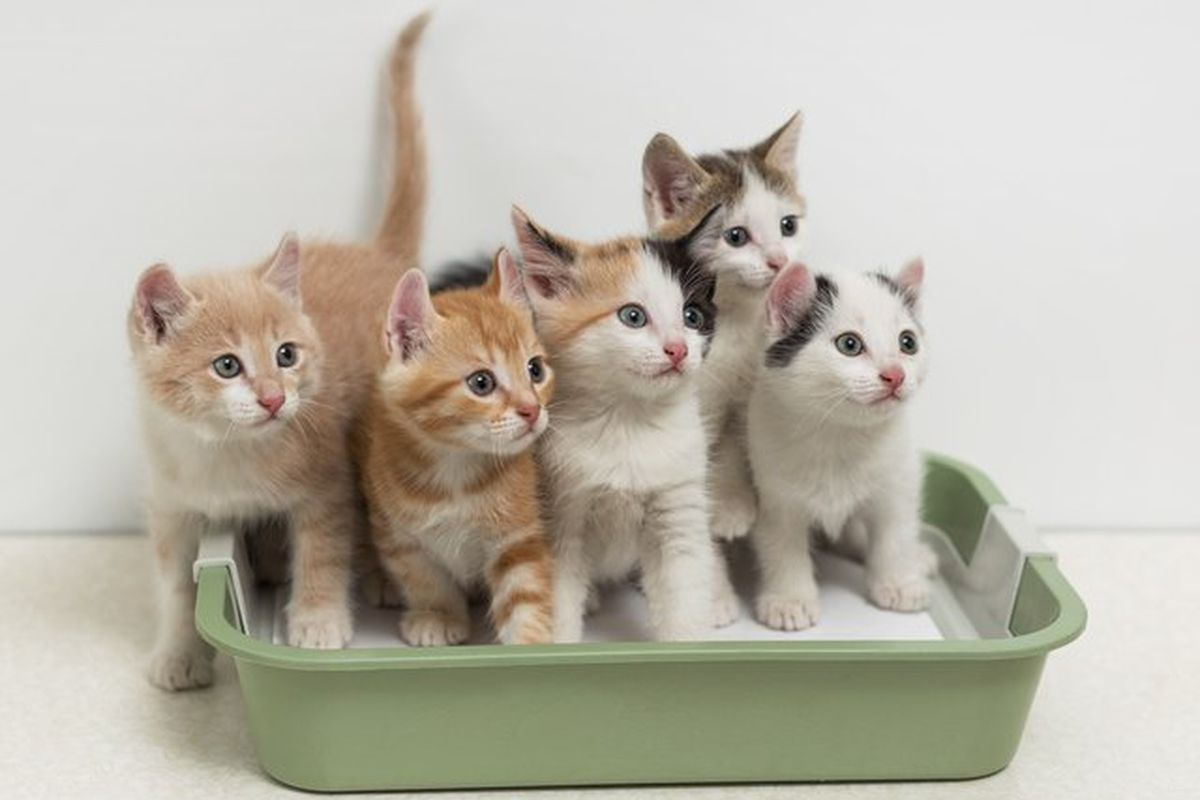kucing: (97, 212, 381, 703), (347, 120, 571, 736), (729, 246, 998, 624), (547, 217, 737, 668), (629, 71, 836, 314)
